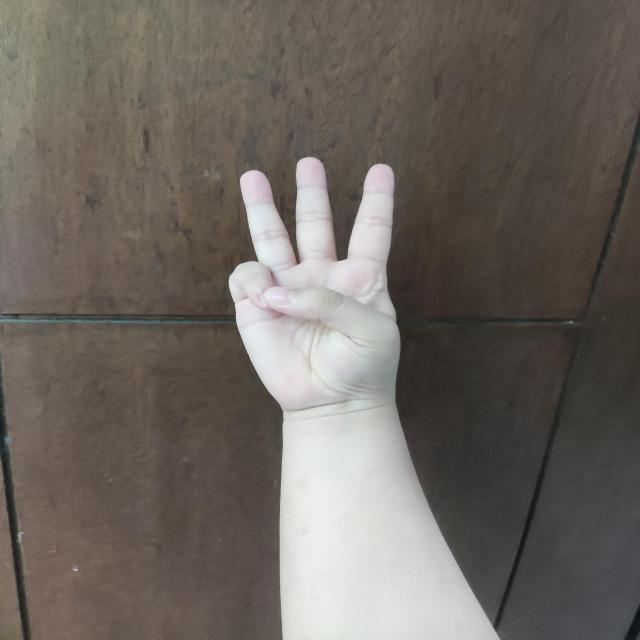W: (228, 157, 401, 412)
